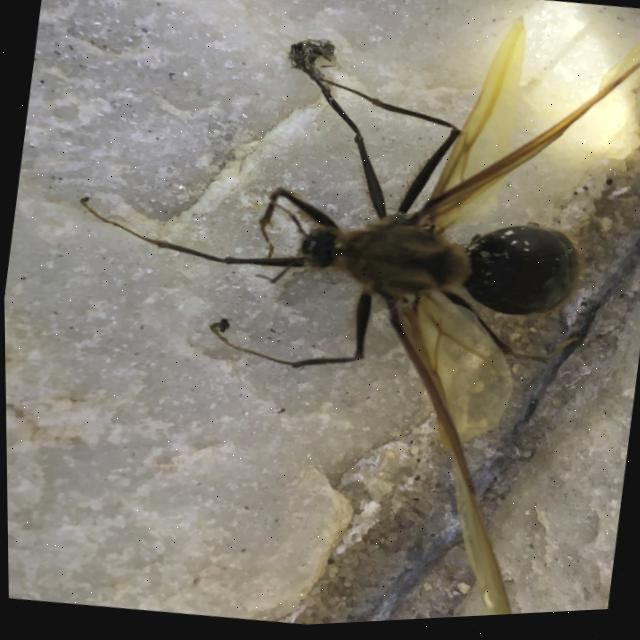Dead-Male-Alate: (20, 0, 640, 639)
